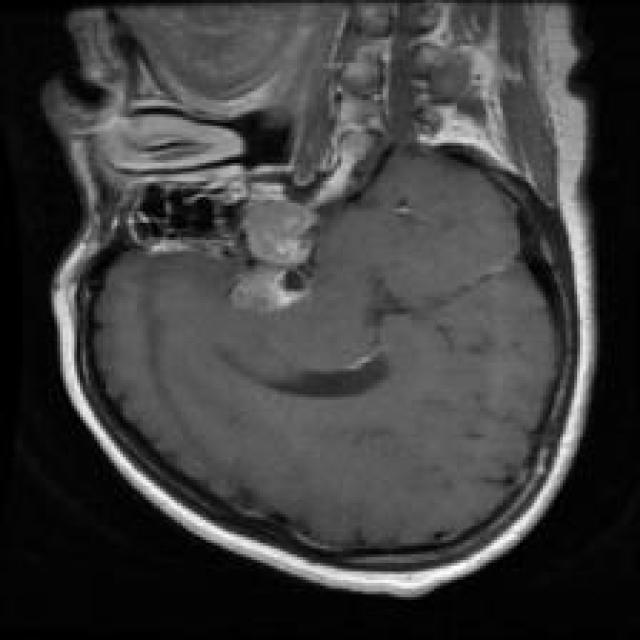pituitary_tumor: (221, 173, 329, 324)
